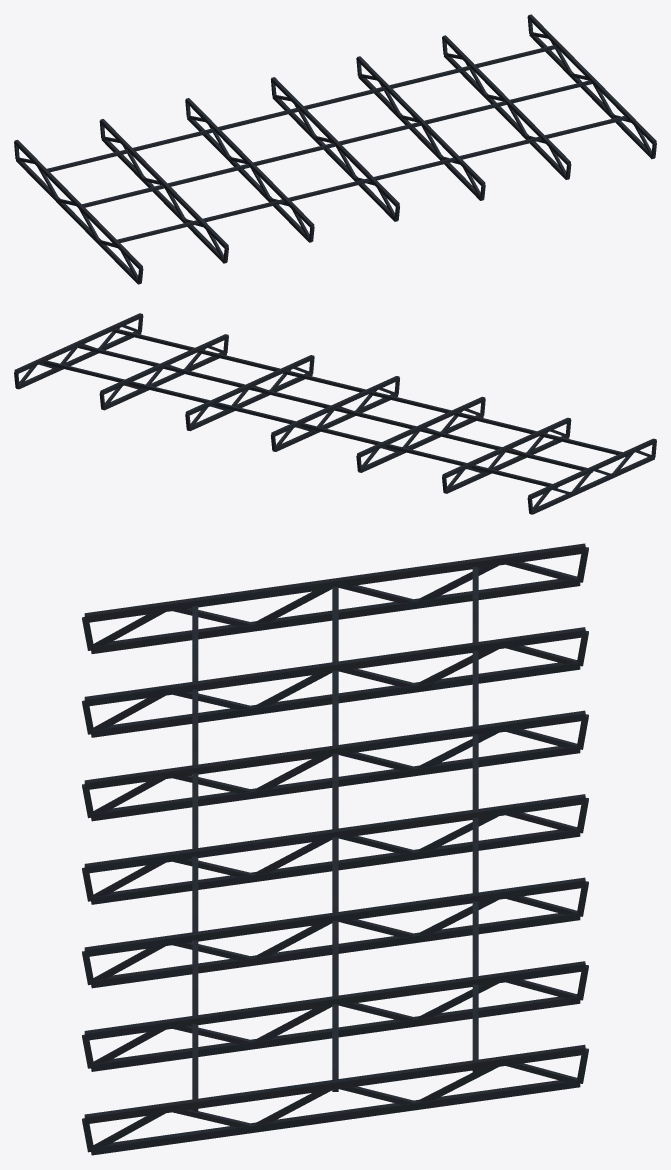
The model's file is interior_trusses.dae.
3 views of the same model, one above another, from view 1: azimuth 30°, elevation 25°; view 2: azimuth 150°, elevation 25°; view 3: azimuth 270°, elevation 25° (orthographic). The views are drawn at different scales.
Parts seen in each view (by area): view 1: ibuilding49_roof_trusses; view 2: ibuilding49_roof_trusses; view 3: ibuilding49_roof_trusses.
Boxes of the visible parts, box(x1,y1,x2,y2) form: ibuilding49_roof_trusses: box(14, 14, 656, 284); ibuilding49_roof_trusses: box(14, 313, 656, 514); ibuilding49_roof_trusses: box(82, 543, 588, 1155).
Size of the model in its own units: 14.26 by 6.05 by 1.42.
Materials: 1 (1 with a texture image).
